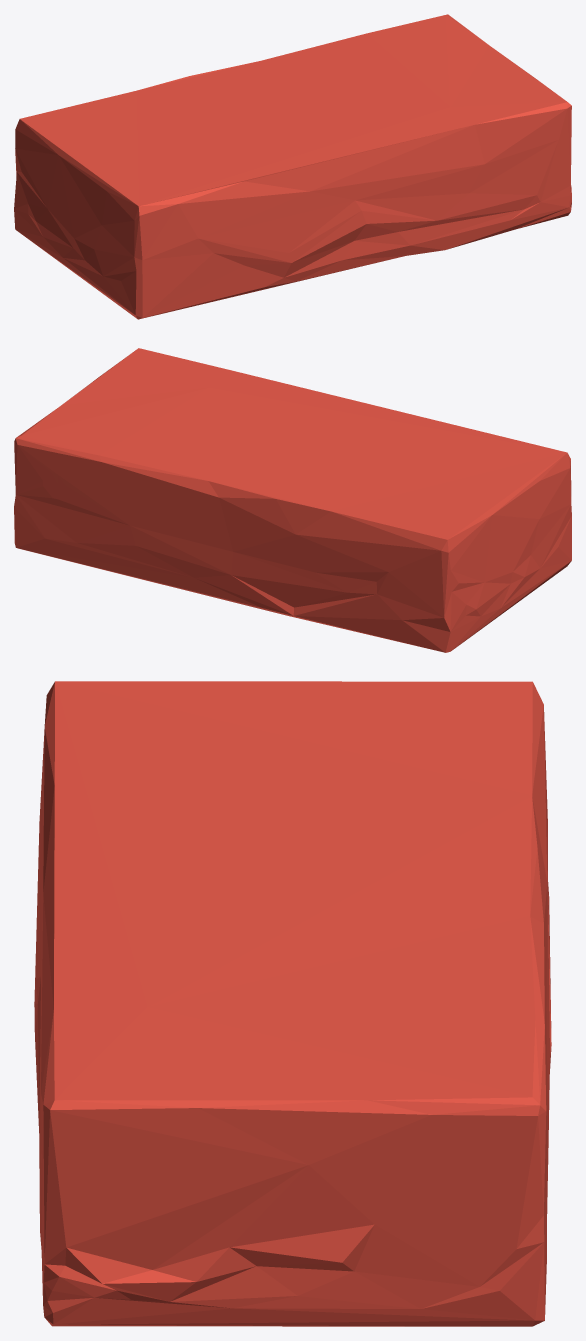
The model's file is SM_Greenscreen_Rectangle.fbx.
3 views of the same model, one above another, from view 1: azimuth 30°, elevation 25°; view 2: azimuth 150°, elevation 25°; view 3: azimuth 270°, elevation 25° (orthographic). The views are drawn at different scales.
Parts seen in each view (by area): view 1: SM_Greenscreen_Rectangle; view 2: SM_Greenscreen_Rectangle; view 3: SM_Greenscreen_Rectangle.
Part boxes in pixels (x1,y1,x2,y2): SM_Greenscreen_Rectangle: [14, 14, 571, 319]; SM_Greenscreen_Rectangle: [14, 348, 571, 652]; SM_Greenscreen_Rectangle: [34, 681, 551, 1326].
Size of the model in its own units: 102 by 203 by 50.84.
